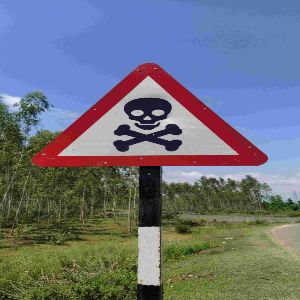Accident prone area: (28, 54, 274, 184)
